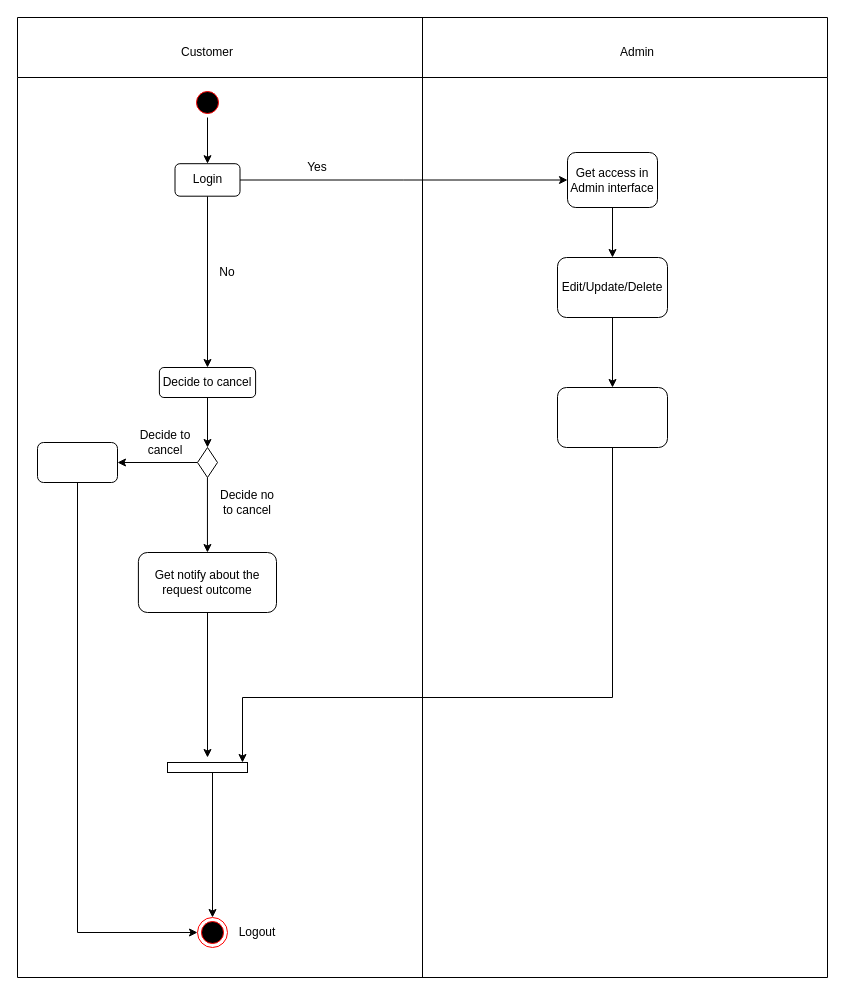
This 845x996 diagram has some shape labels left out. The shapes that lost their labels are listed below. From the top down, each one's centre as x and y in pixels, then its label:
At (612,417): "Save changes".
At (77,462): "Cancel the request".
